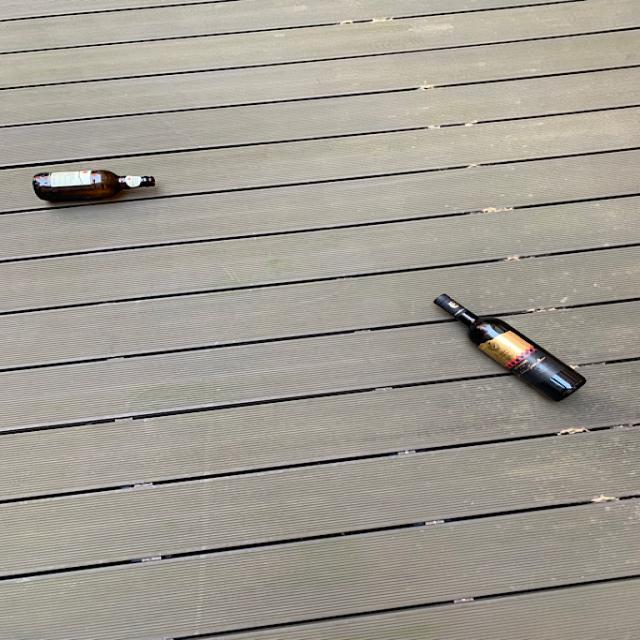litter: (428, 291, 594, 407), (24, 160, 164, 207)
